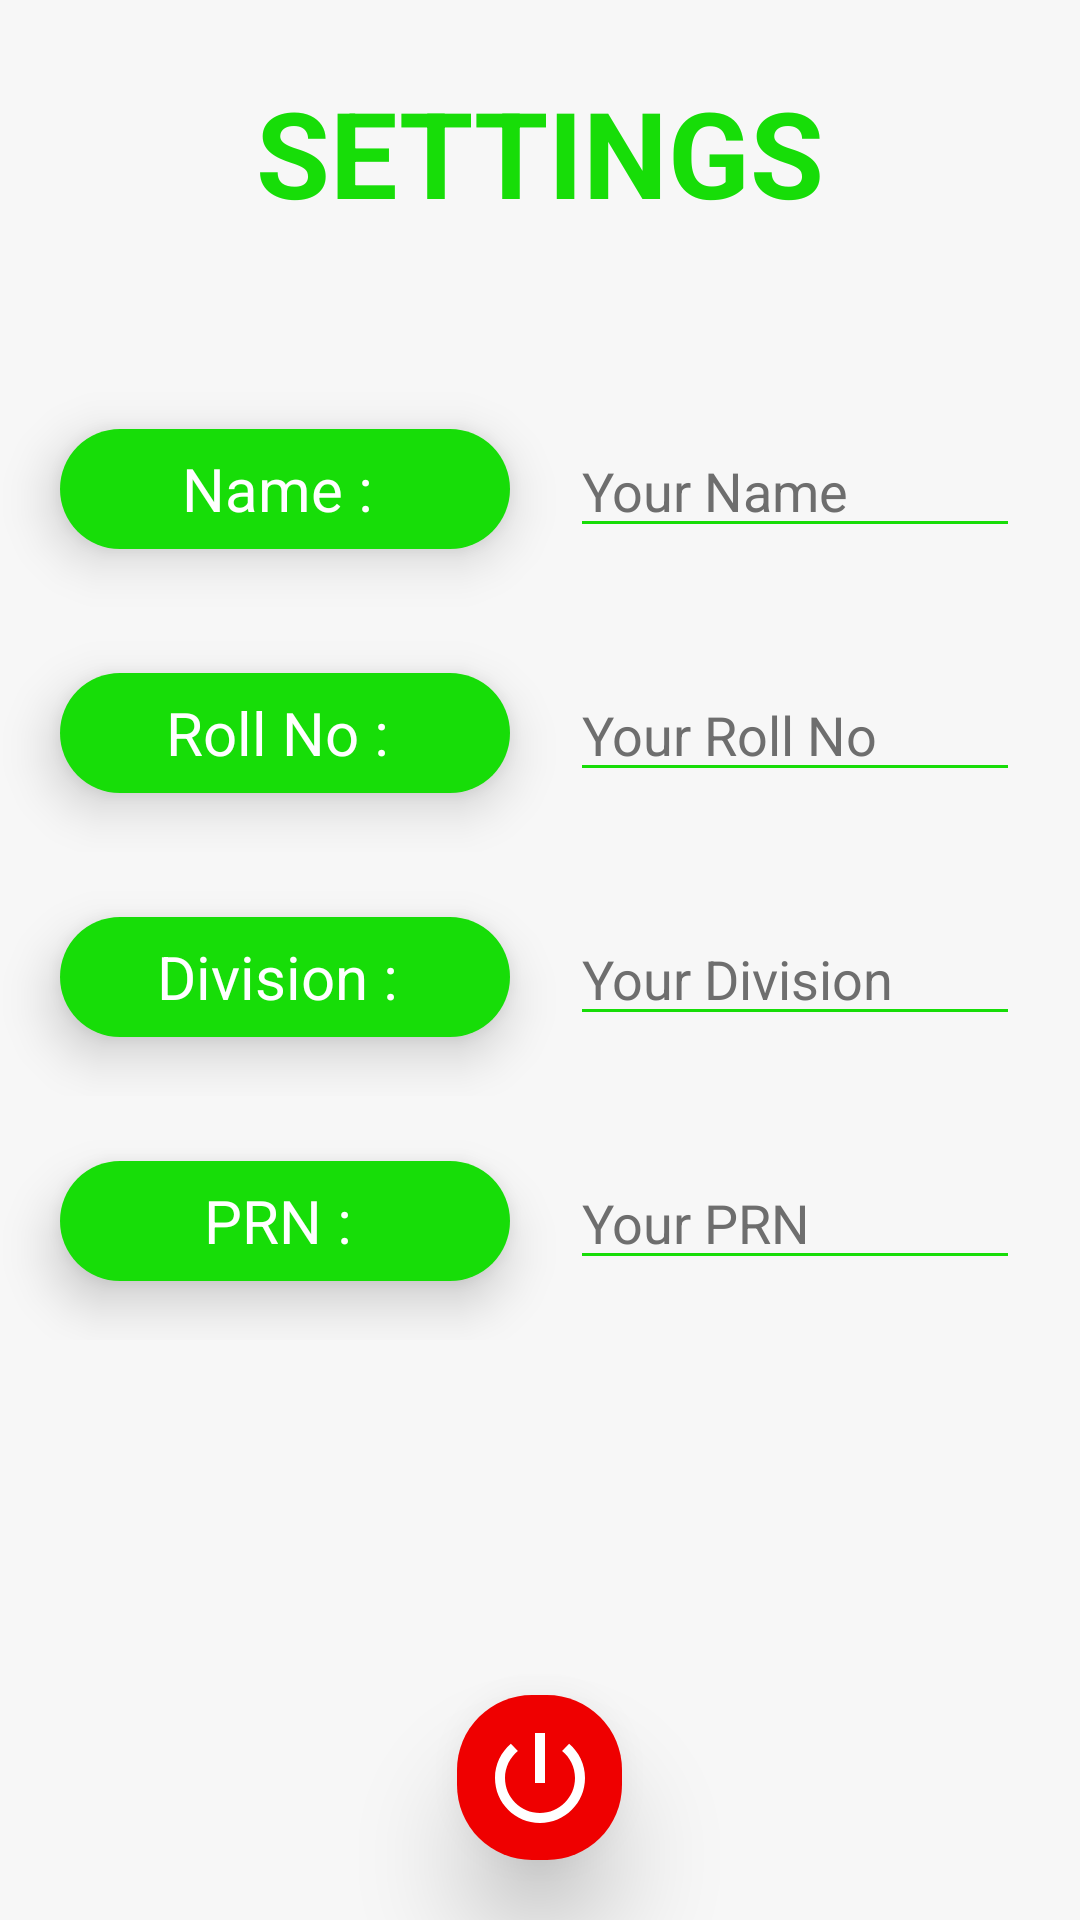

Where to tap for icons on this 1080 × 1920 app screen, as (x,y):
power settings: (539,1777)
